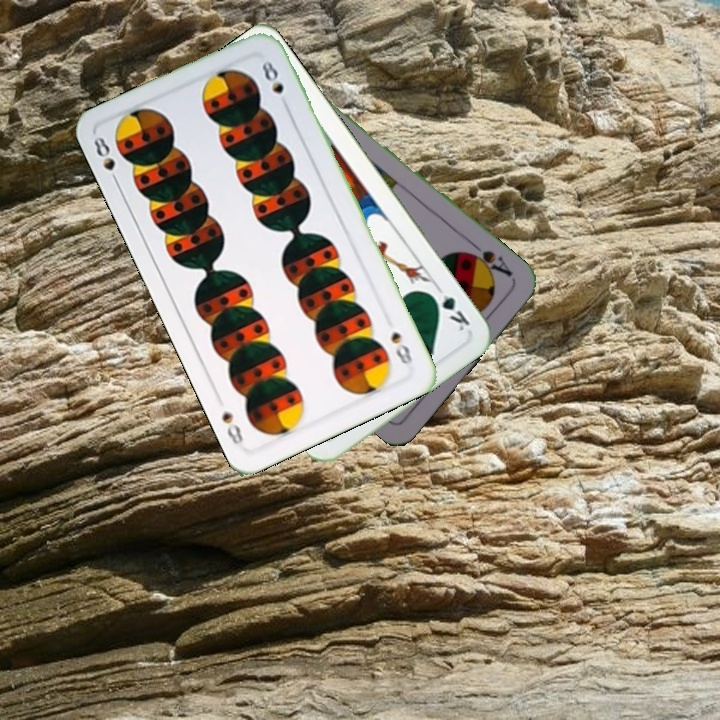GK: (425, 281, 473, 334)
S8: (89, 132, 122, 189), (387, 327, 415, 367)
SA: (461, 238, 515, 280)
